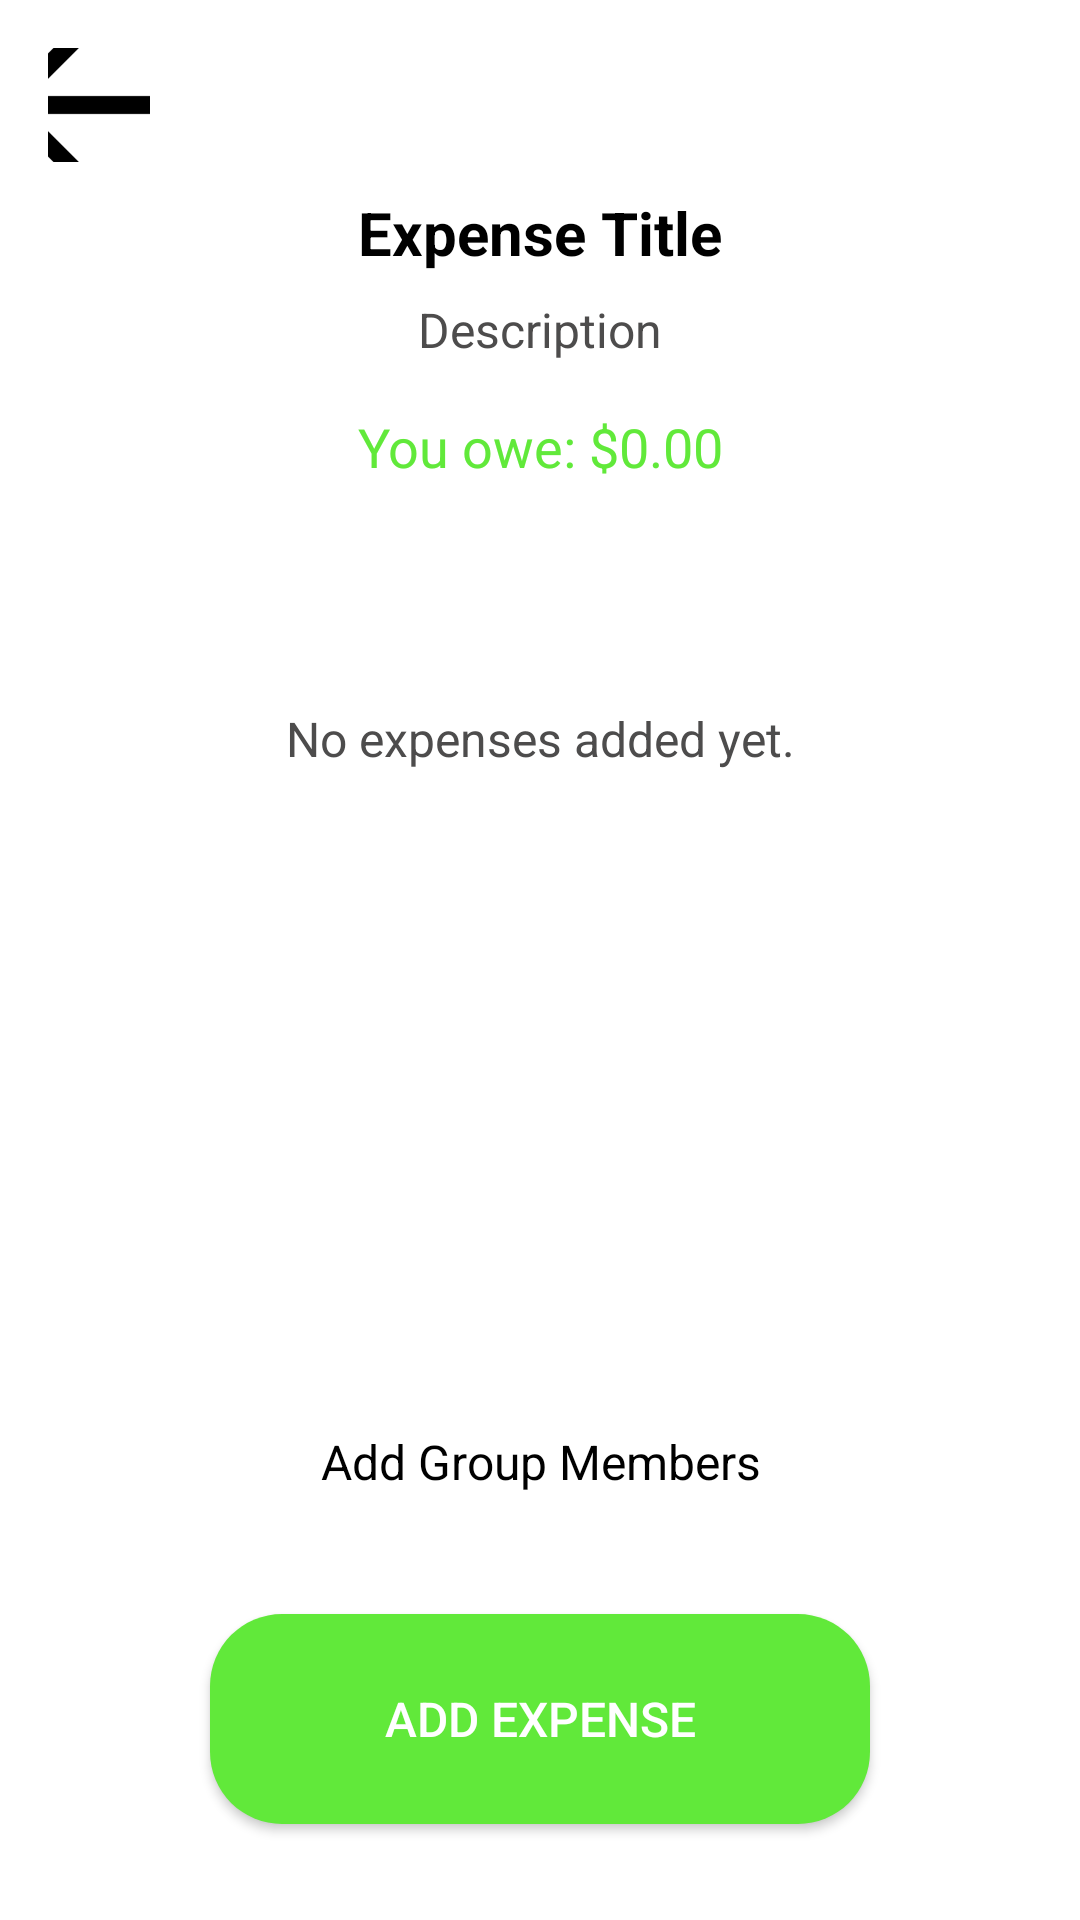

Where icons sit on this 1080 × 1920 app screen, as (x1, y1, x2, y2):
Back: (48, 48, 150, 162)
